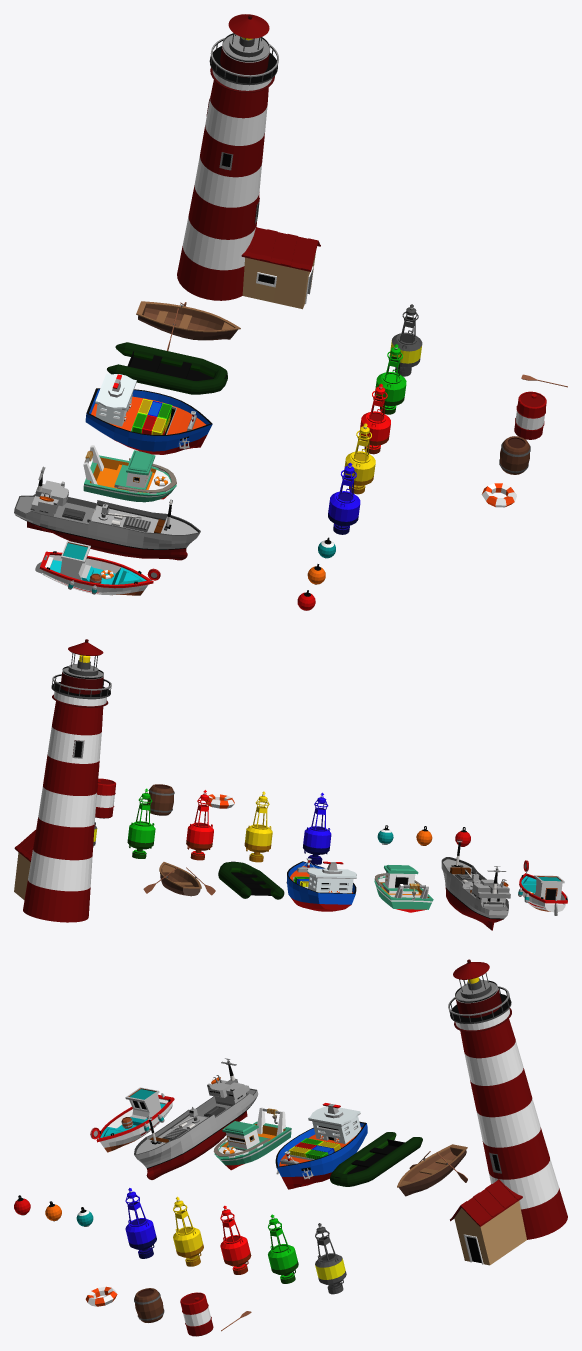
File: Full_Low_Poly_Sea_&amp;_Ships_Pack.glb
The picture shows the model from 3 angles, top to bottom: view 1: azimuth 30°, elevation 25°; view 2: azimuth 150°, elevation 25°; view 3: azimuth 270°, elevation 25°; orthographic projection. The views are drawn at different scales.
Visible parts, largest first — view 1: Lighthouse, big_ship_2, Cargo_Ship_LowPoly, resin_boat, fishingboat_greek, FishingBoat, Boat, buoy_lowpoly.003, barell_oil, buoy_lowpoly.004, buoy_lowpoly.001, buoy_lowpoly.002 (+2 smaller); view 2: Lighthouse, big_ship_2, Cargo_Ship_LowPoly, FishingBoat, fishingboat_greek, resin_boat, buoy_lowpoly.003, buoy_lowpoly.002, buoy_lowpoly.001, buoy_lowpoly, Boat, wooden_barell (+1 smaller); view 3: Lighthouse, big_ship_2, Cargo_Ship_LowPoly, FishingBoat, fishingboat_greek, resin_boat, Boat, buoy_lowpoly.004, buoy_lowpoly.003, buoy_lowpoly.002, buoy_lowpoly, buoy_lowpoly.001 (+3 smaller).
Boxes of the visible parts, left/top/right/bottom form: Lighthouse: left=177, top=14, right=320, bottom=309; big_ship_2: left=14, top=466, right=200, bottom=560; Cargo_Ship_LowPoly: left=85, top=373, right=212, bottom=454; resin_boat: left=107, top=342, right=227, bottom=394; fishingboat_greek: left=35, top=540, right=160, bottom=595; FishingBoat: left=83, top=445, right=176, bottom=502; Boat: left=136, top=301, right=240, bottom=340; buoy_lowpoly.003: left=328, top=462, right=360, bottom=534; barell_oil: left=514, top=391, right=546, bottom=439; buoy_lowpoly.004: left=389, top=304, right=422, bottom=376; buoy_lowpoly.001: left=374, top=344, right=406, bottom=414; buoy_lowpoly.002: left=343, top=423, right=375, bottom=494; Lighthouse: left=14, top=639, right=111, bottom=922; big_ship_2: left=441, top=839, right=510, bottom=930; Cargo_Ship_LowPoly: left=286, top=858, right=356, bottom=911; FishingBoat: left=374, top=865, right=433, bottom=912; fishingboat_greek: left=518, top=860, right=567, bottom=915; resin_boat: left=218, top=861, right=284, bottom=899; buoy_lowpoly.003: left=303, top=792, right=331, bottom=864; buoy_lowpoly.002: left=244, top=791, right=272, bottom=862; buoy_lowpoly.001: left=127, top=788, right=155, bottom=858; buoy_lowpoly: left=186, top=790, right=213, bottom=860; Boat: left=159, top=862, right=201, bottom=896; wooden_barell: left=148, top=784, right=174, bottom=815; Lighthouse: left=448, top=959, right=567, bottom=1265; big_ship_2: left=134, top=1058, right=258, bottom=1179; Cargo_Ship_LowPoly: left=275, top=1103, right=367, bottom=1189; FishingBoat: left=213, top=1107, right=291, bottom=1170; fishingboat_greek: left=90, top=1087, right=174, bottom=1152; resin_boat: left=330, top=1132, right=422, bottom=1186; Boat: left=397, top=1144, right=467, bottom=1196; buoy_lowpoly.004: left=315, top=1223, right=346, bottom=1294; buoy_lowpoly.003: left=125, top=1188, right=156, bottom=1258; buoy_lowpoly.002: left=173, top=1196, right=203, bottom=1266; buoy_lowpoly: left=220, top=1205, right=251, bottom=1274; buoy_lowpoly.001: left=268, top=1214, right=298, bottom=1283.
Size of the model in its own units: 45.34 by 28.46 by 42.19.
19 materials, 19 textured.
